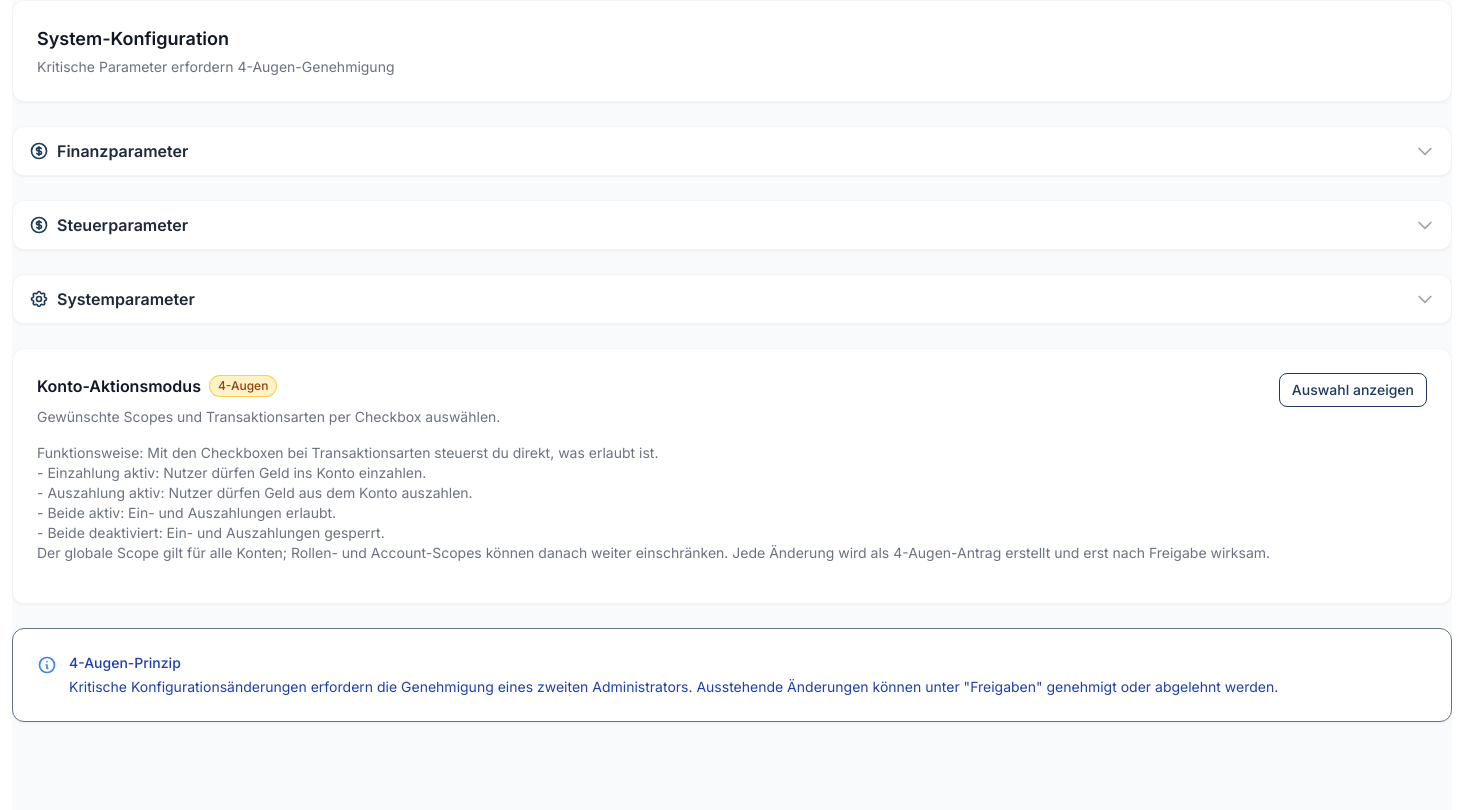
ConfigurationPage (Steuerparameter integration) › shows tax detail section collapsed by default when customer self reports
This screenshot has width=1464, height=810.
Click the button "Steuerparameter".
click(123, 225)  # box [13,201,1451,249]
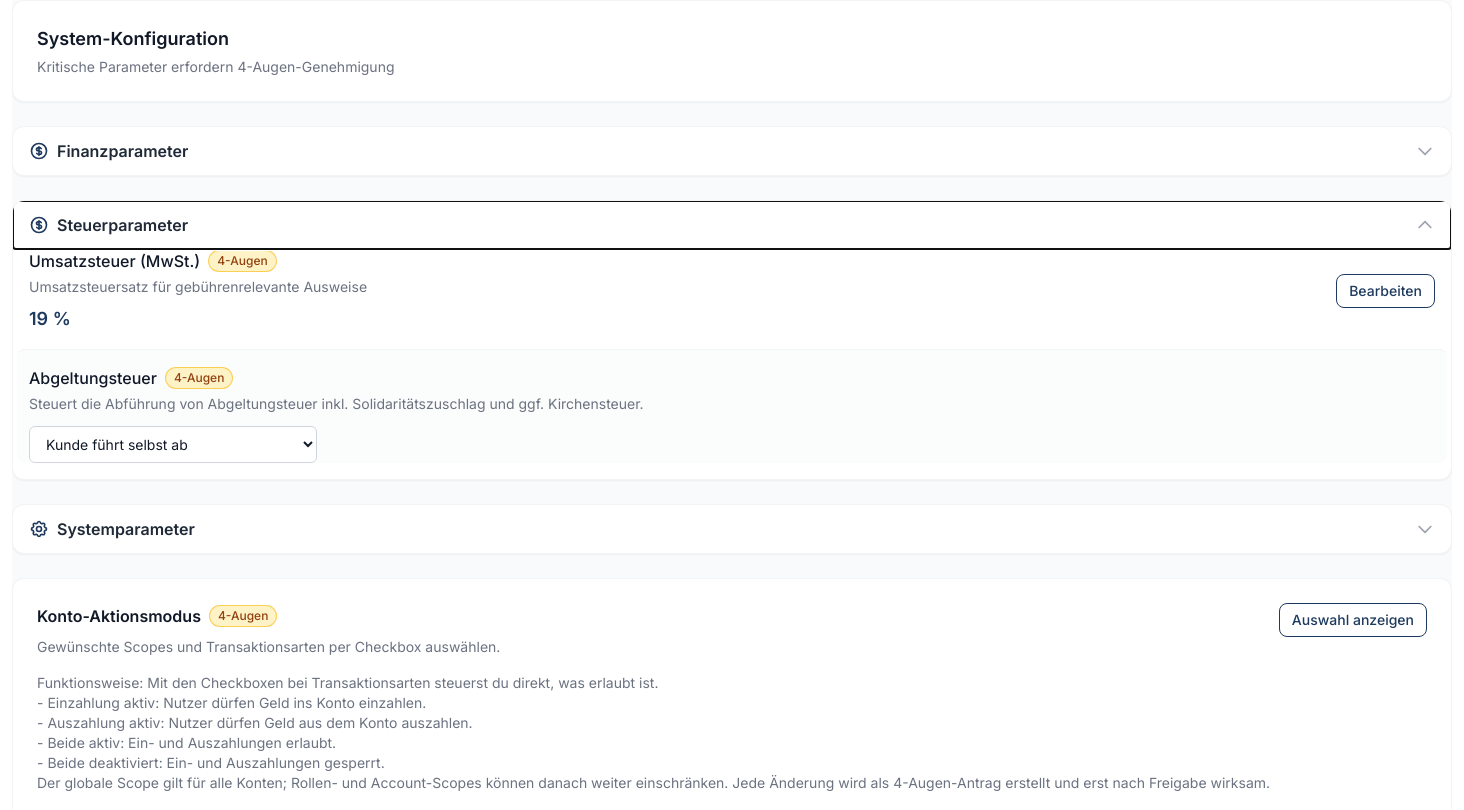
Now the text "Umsatzsteuer (MwSt.)" is shown, box [29,249,200,273]
Now the text "Abgeltungsteuer" is shown, box [29,366,157,390]
